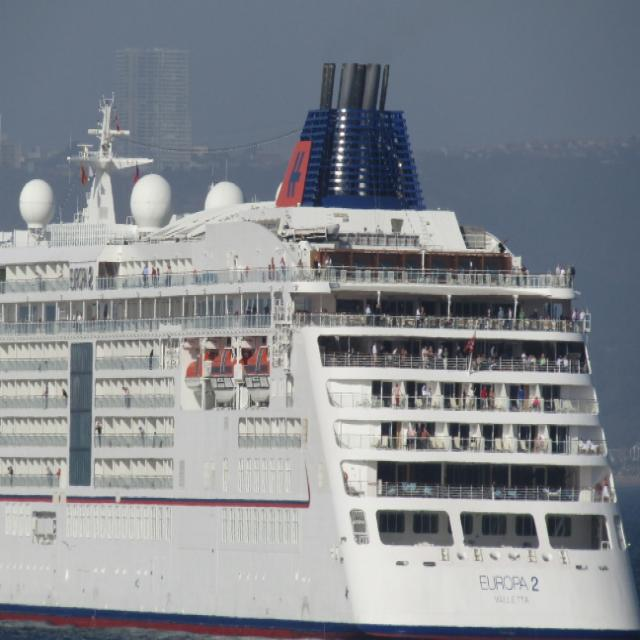cruises: (1, 57, 640, 640)
